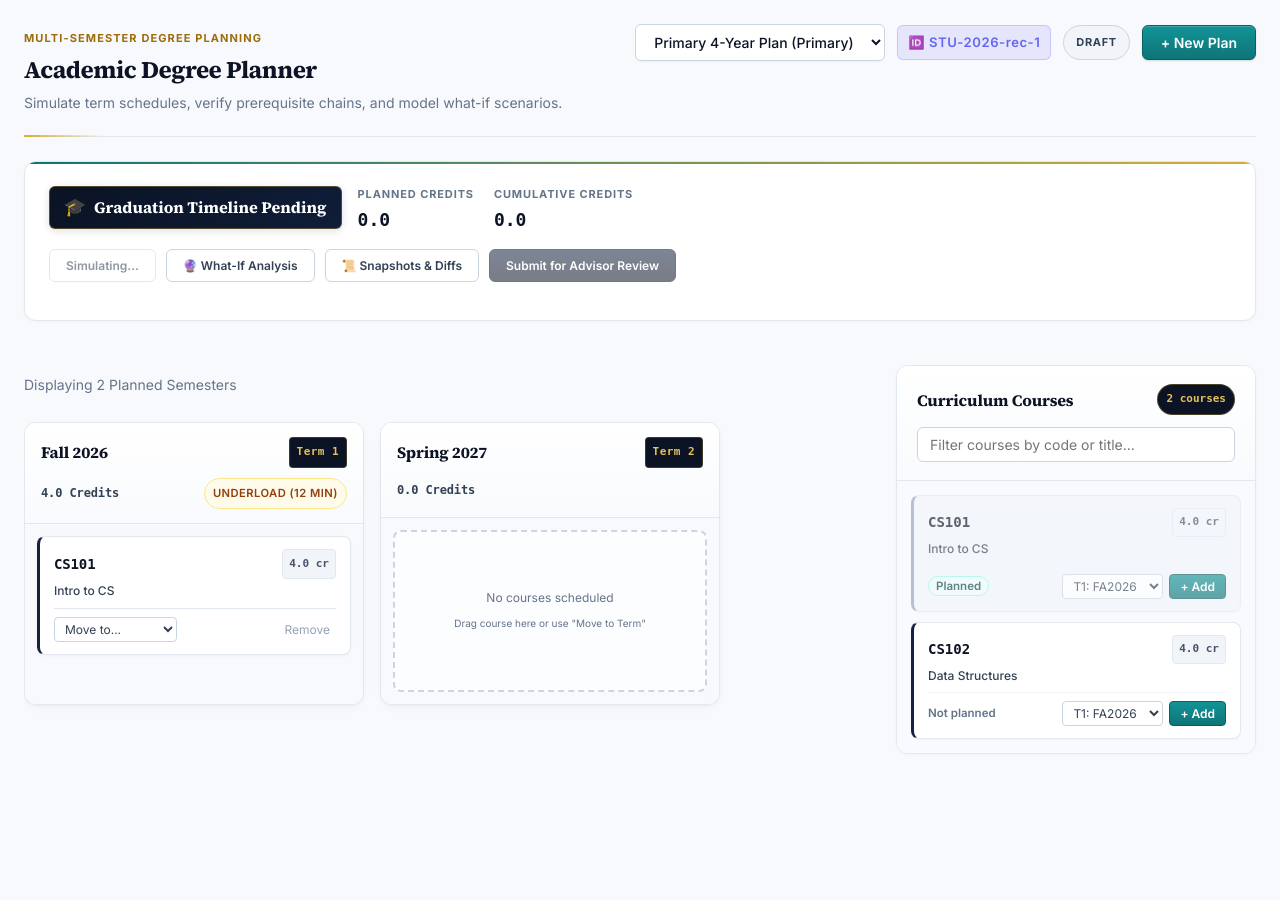
DegreePlannerPage Component › opens snapshot version diff modal and displays version history
Step 1. Click the button with test id "version-history-btn" → (402, 266), box [324,249,479,282]
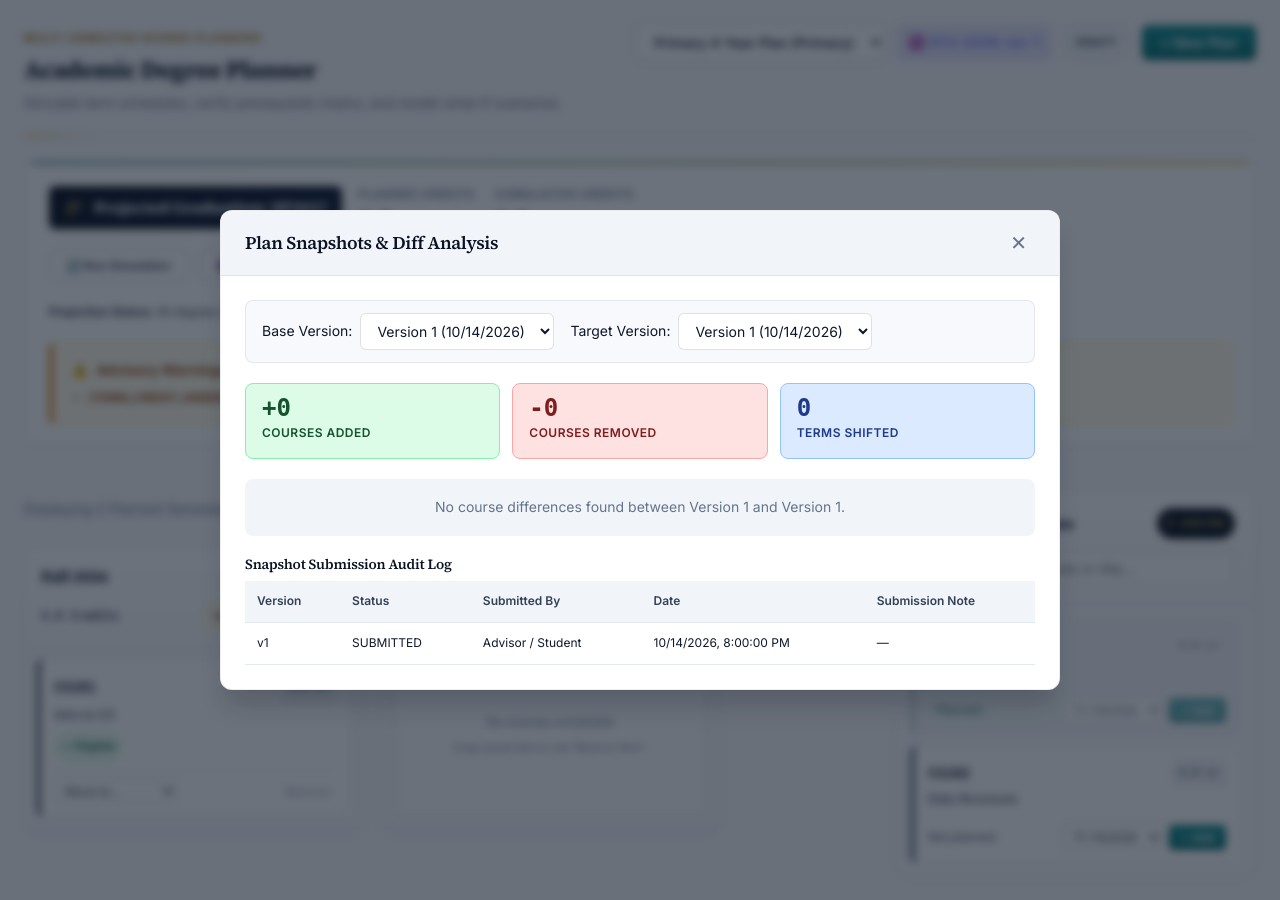
Expected: the dialog with test id "plan-version-diff-modal" is shown
Expected: the table with test id "snapshots-history-table" is shown, [245,581,1035,665]
